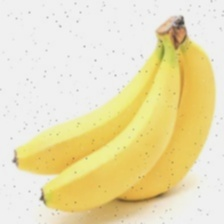banana: (38, 28, 215, 216)
